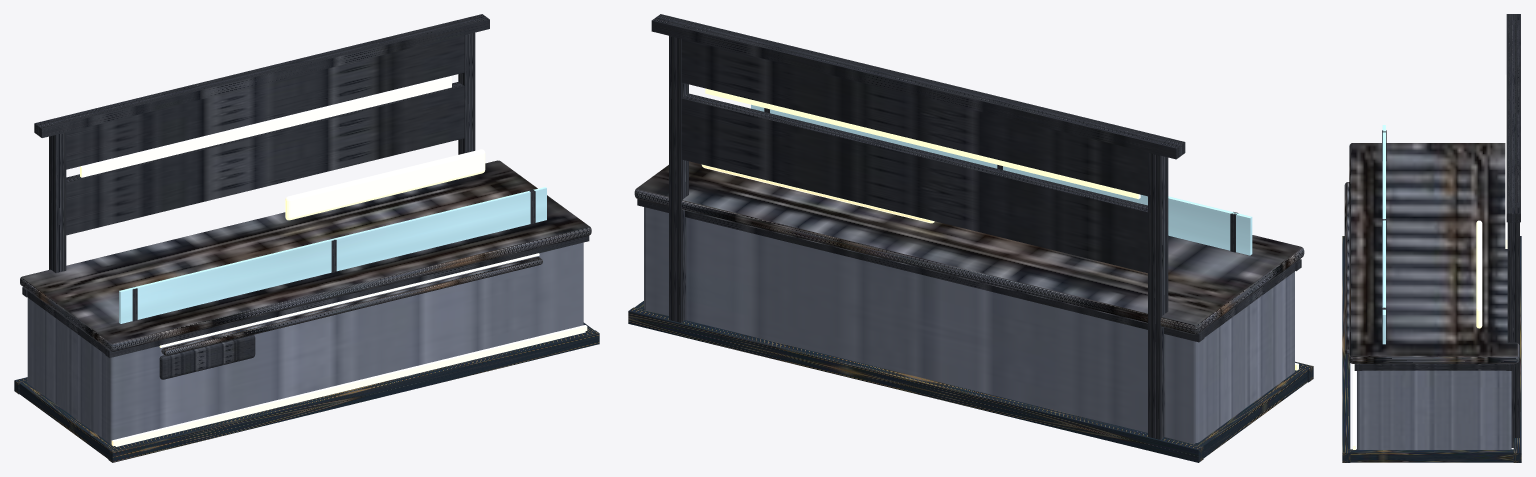
Rendered from transit_servicecounter.glb.
3 renders of one model, left to right at view 1: azimuth 30°, elevation 25°; view 2: azimuth 150°, elevation 25°; view 3: azimuth 270°, elevation 25°, orthographic. The views are drawn at different scales.
Parts seen in each view (by area): view 1: sight_shell, body, top, guard, shelltoe0, menu, sightglow, strip, rail, shellrim0, niche, shelltoes0 (+2 smaller); view 2: sight_shell, body, top, shelltoe2, guard, shellrim2, sightglow, shelltoes0, menu, shellrims0; view 3: top, body, sight_shell, shelltoes2, shelltoe0, rail, shellrims2, guard, menu, shelltoe2, sightglow, strip.
Boxes of the visible parts, bbox=[...] form: sight_shell: bbox=[34, 14, 489, 272]; body: bbox=[27, 242, 583, 443]; top: bbox=[20, 160, 591, 351]; guard: bbox=[119, 187, 546, 323]; shelltoe0: bbox=[108, 330, 599, 462]; menu: bbox=[285, 149, 485, 220]; sightglow: bbox=[80, 76, 451, 177]; strip: bbox=[111, 325, 587, 446]; rail: bbox=[161, 257, 542, 355]; shellrim0: bbox=[105, 236, 589, 357]; niche: bbox=[159, 335, 255, 379]; shelltoes0: bbox=[19, 380, 116, 458]; sight_shell: bbox=[651, 14, 1185, 439]; body: bbox=[644, 207, 1294, 443]; top: bbox=[634, 161, 1304, 334]; shelltoe2: bbox=[628, 307, 1203, 462]; guard: bbox=[751, 104, 1252, 255]; shellrim2: bbox=[637, 199, 1204, 342]; sightglow: bbox=[705, 88, 1140, 199]; shelltoes0: bbox=[1193, 367, 1307, 457]; menu: bbox=[701, 164, 934, 223]; shellrims0: bbox=[1203, 263, 1295, 337]; top: bbox=[1349, 143, 1519, 363]; body: bbox=[1357, 370, 1511, 449]; sight_shell: bbox=[1506, 14, 1520, 447]; shelltoes2: bbox=[1348, 449, 1515, 462]; shelltoe0: bbox=[1342, 236, 1350, 462]; rail: bbox=[1344, 182, 1349, 354]; shellrims2: bbox=[1360, 364, 1506, 370]; guard: bbox=[1382, 125, 1385, 344]; menu: bbox=[1476, 220, 1482, 328]; shelltoe2: bbox=[1513, 236, 1521, 462]; sightglow: bbox=[1505, 74, 1507, 248]; strip: bbox=[1353, 364, 1355, 449].
Bounding box in the file's own units: 3.29 × 1.7 × 1.15.
8 materials, 6 textured.
